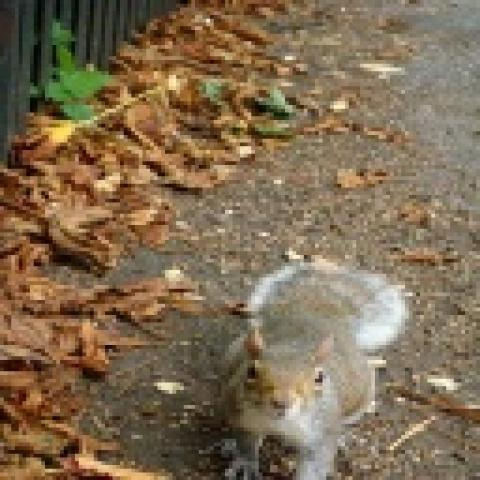small_animal: (214, 264, 411, 476)
